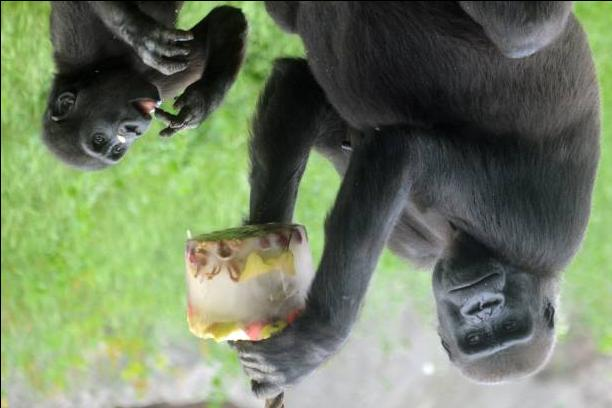gorille_Autres: (305, 0, 600, 398), (17, 0, 228, 198)
